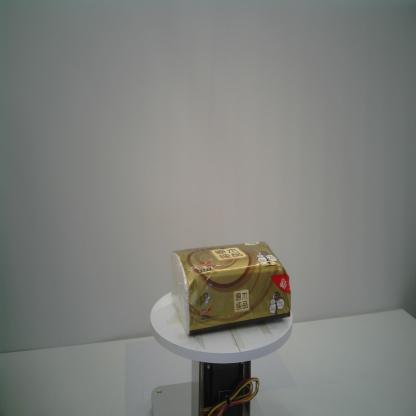Tissue: (171, 240, 291, 336)
